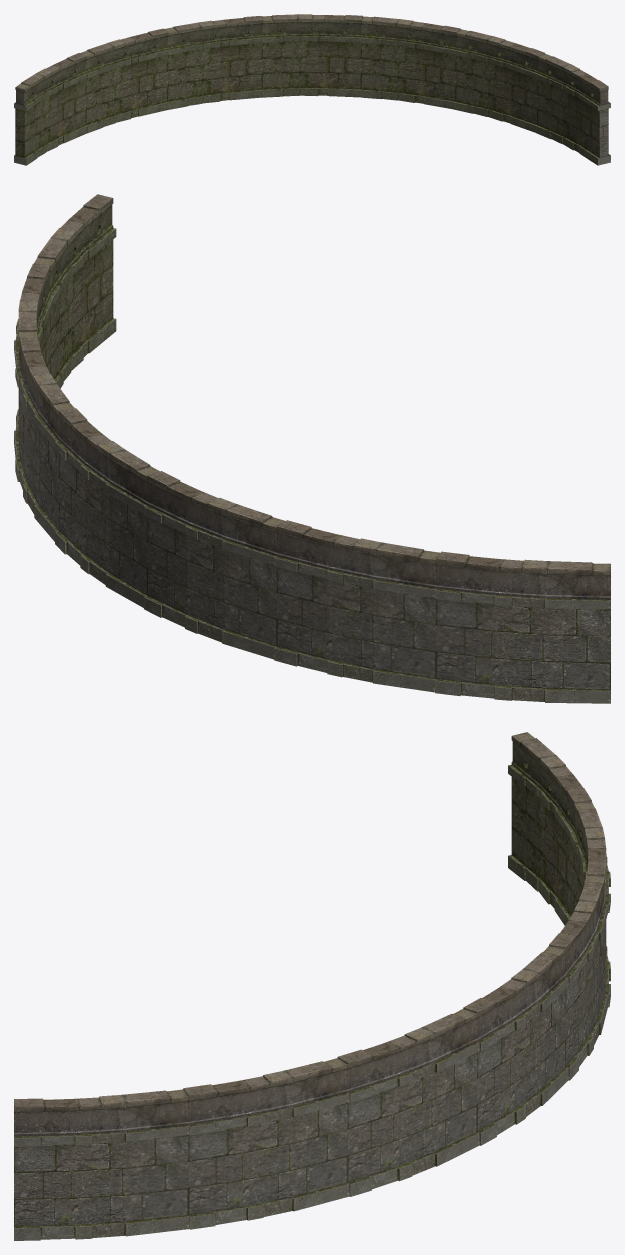
Rendered from bg_lut_lutomb_wall03_sm_old.FBX.
The picture shows the model from 3 angles, top to bottom: view 1: azimuth 30°, elevation 25°; view 2: azimuth 150°, elevation 25°; view 3: azimuth 270°, elevation 25°; orthographic projection. The views are drawn at different scales.
Parts seen in each view (by area): view 1: bg_lut_lutomb_wall03_sm_old; view 2: bg_lut_lutomb_wall03_sm_old; view 3: bg_lut_lutomb_wall03_sm_old.
Boxes of the visible parts, x1,y1,x2,y2 form: bg_lut_lutomb_wall03_sm_old: [14, 14, 610, 165]; bg_lut_lutomb_wall03_sm_old: [14, 194, 610, 703]; bg_lut_lutomb_wall03_sm_old: [14, 732, 610, 1240].
Bounding box in the file's own units: 3166 × 517 × 2111.
